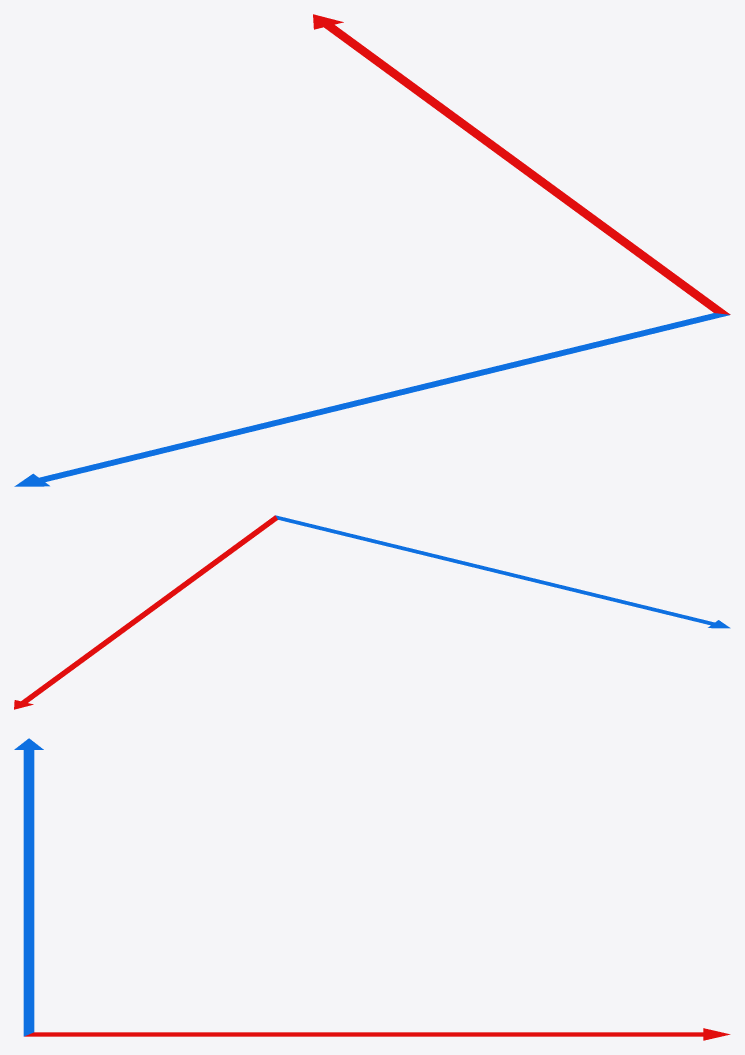
File: Axis.fbx
The picture shows the model from 3 angles, top to bottom: view 1: azimuth 30°, elevation 25°; view 2: azimuth 150°, elevation 25°; view 3: azimuth 270°, elevation 25°; orthographic projection. The views are drawn at different scales.
Visible parts, largest first — view 1: Axis; view 2: Axis; view 3: Axis.
Part boxes in pixels (x1=…): Axis: x1=14, y1=14, x2=730, y2=486; Axis: x1=14, y1=515, x2=730, y2=709; Axis: x1=14, y1=738, x2=730, y2=1040.
Size of the model in its own units: 102 by 8.42e-16 by 102.
